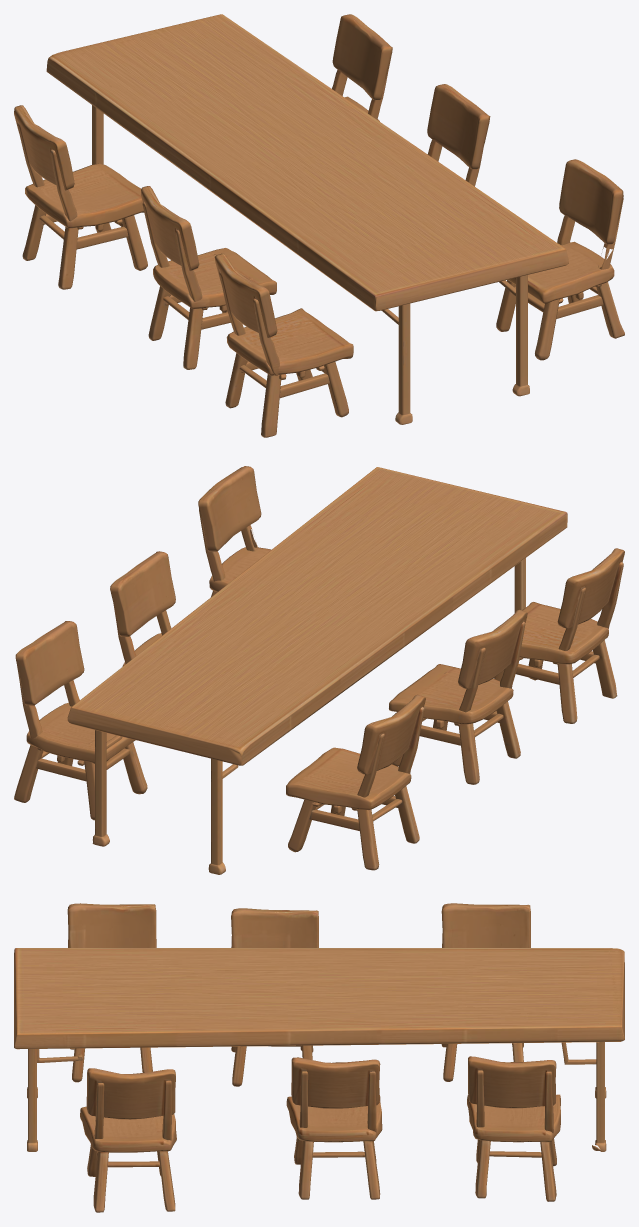
Rendered from toonstudio_wooden_dining_table.glb.
3 views of the same model, one above another, from view 1: azimuth 30°, elevation 25°; view 2: azimuth 150°, elevation 25°; view 3: azimuth 270°, elevation 25° (orthographic). The views are drawn at different scales.
Visible parts, largest first — view 1: c4f611ff_1300_46e3_b011_b751886a72bd; view 2: c4f611ff_1300_46e3_b011_b751886a72bd; view 3: c4f611ff_1300_46e3_b011_b751886a72bd.
Part boxes in pixels (x1,y1,x2,y2): c4f611ff_1300_46e3_b011_b751886a72bd: (14,14,624,437); c4f611ff_1300_46e3_b011_b751886a72bd: (14,466,624,874); c4f611ff_1300_46e3_b011_b751886a72bd: (14,903,624,1212).
Bounding box in the file's own units: 2.02 × 0.7665 × 3.
Materials: 1 (1 with a texture image).
